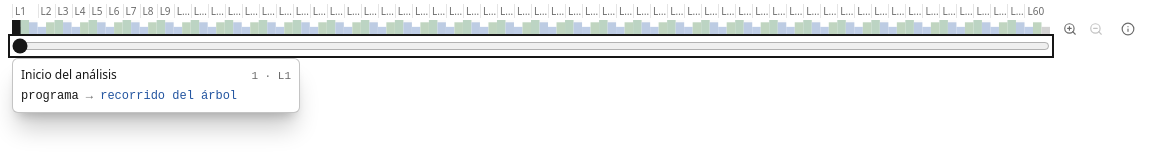
línea de tiempo: tarjeta y zoom (T5) › muchos pasos: el deslizador con foco muestra el paso actual; el zoom acerca
This screenshot has width=1152, height=160.
Expected: the tooltip shows "Inicio del análisis", [21,66,117,83]
Click the button named "Acercar": click(1070, 29) [1058,17,1082,41]
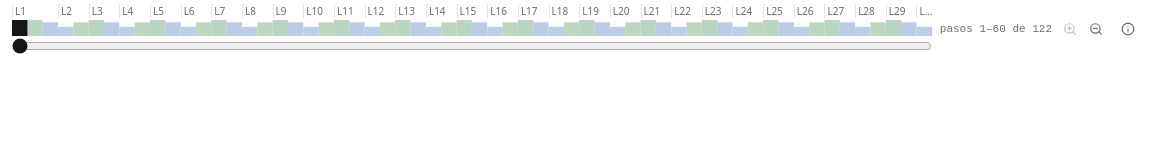
Expected: the button named "Acercar" is disabled, [1058,17,1082,41]
Click the button named "Alejar": click(1096, 29) [1084,17,1108,41]
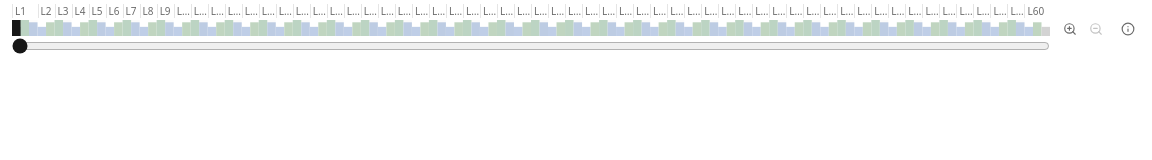
Expected: the text "pasos 1–60 de 122" is gone
